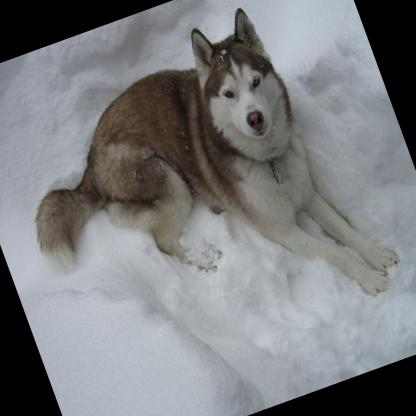Siberian_husky: (0, 0, 412, 402)
